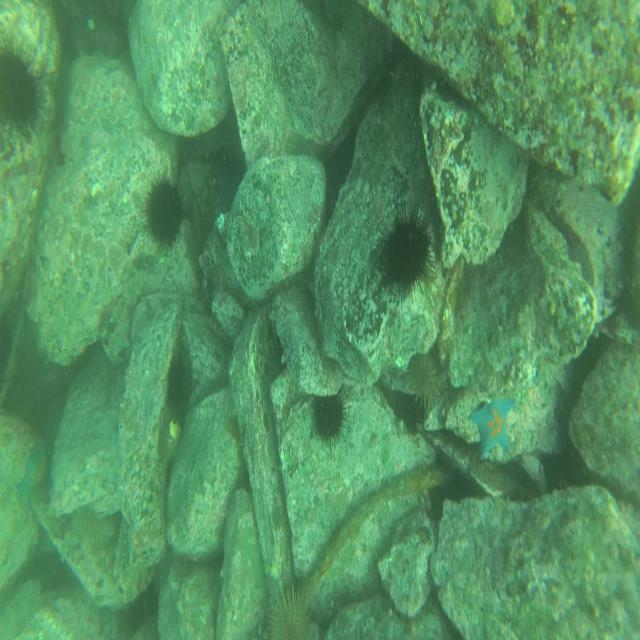echinus: (380, 213, 436, 298), (141, 176, 184, 247), (2, 41, 40, 120), (402, 348, 446, 406), (266, 587, 316, 637), (312, 385, 349, 443)
starfish: (468, 386, 520, 458), (20, 456, 48, 512)
